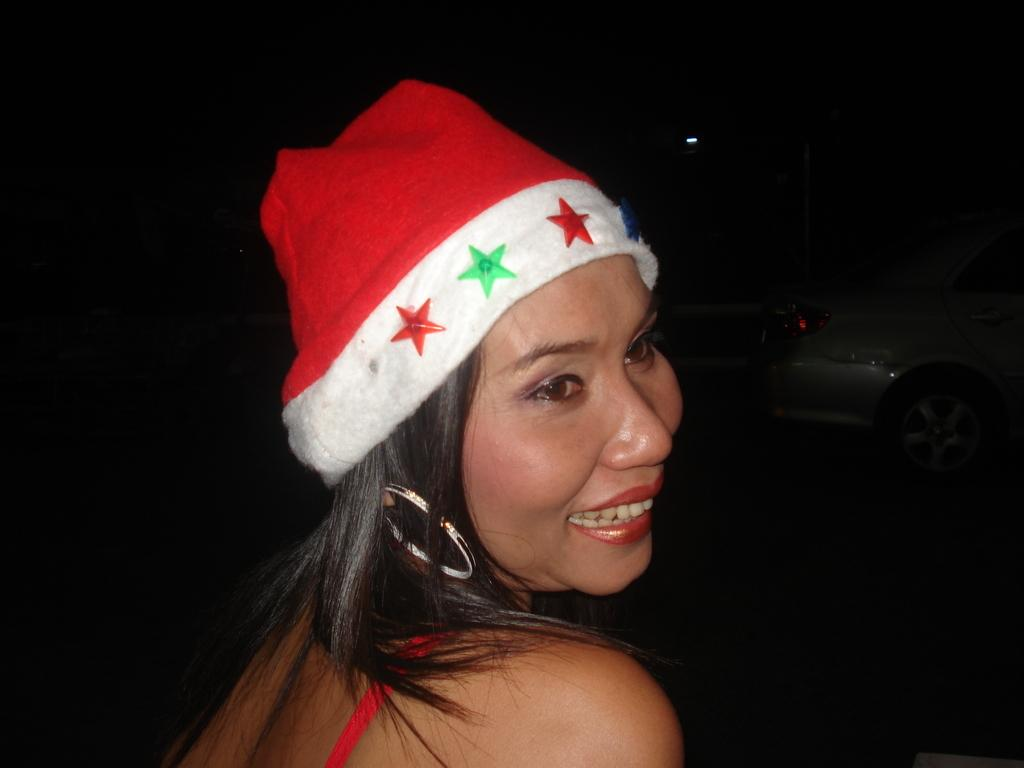Hat: (258, 79, 660, 489)
